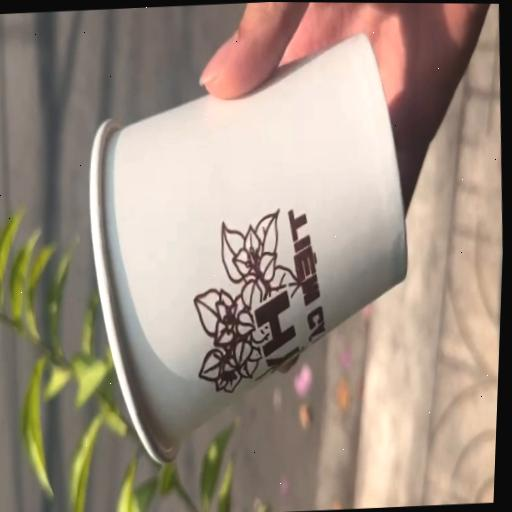Ly_giay: (90, 33, 406, 461)
